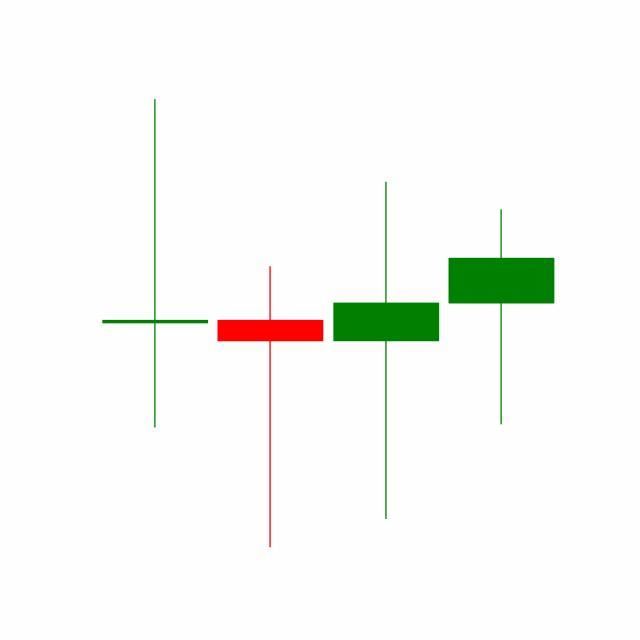Spinning Top: (444, 207, 560, 428)
